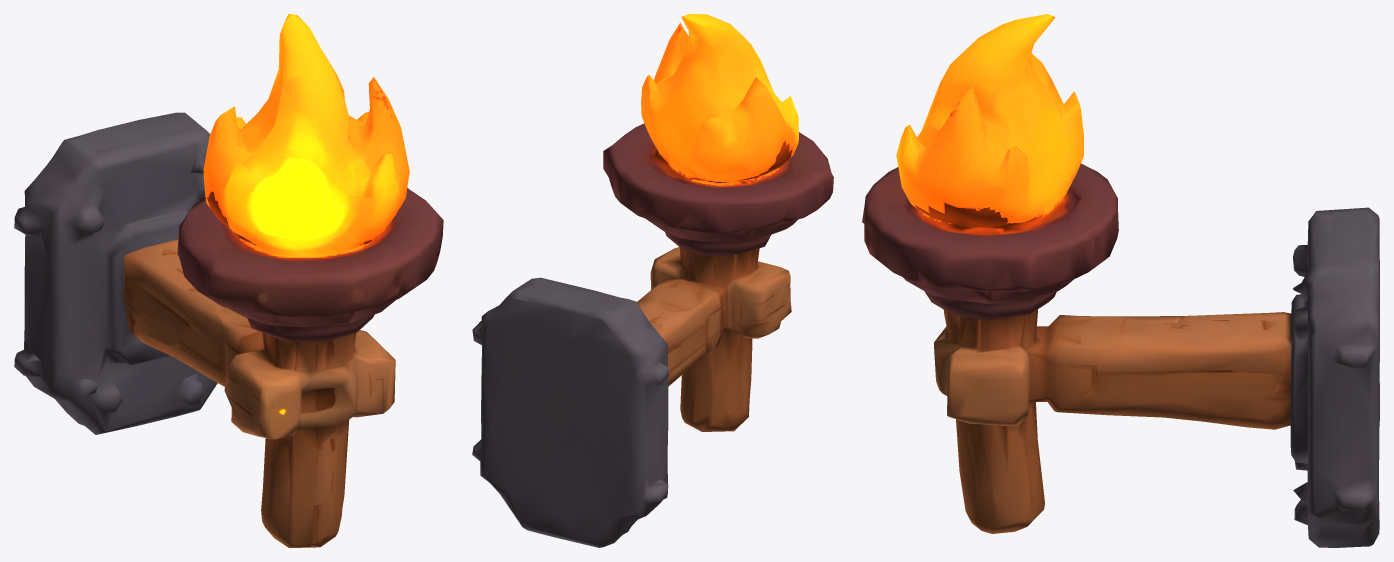
Rendered from camp_torch-B5AurtAE.glb.
3 views of the same model, side by side, from view 1: azimuth 30°, elevation 25°; view 2: azimuth 150°, elevation 25°; view 3: azimuth 270°, elevation 25° (orthographic). The views are drawn at different scales.
Parts seen in each view (by area): view 1: tripo_node_bf181872-946b-40d7-bef2-8dbe256fc283; view 2: tripo_node_bf181872-946b-40d7-bef2-8dbe256fc283; view 3: tripo_node_bf181872-946b-40d7-bef2-8dbe256fc283.
Boxes of the visible parts, box(x1,y1,x2,y2) form: tripo_node_bf181872-946b-40d7-bef2-8dbe256fc283: box(14, 14, 443, 547); tripo_node_bf181872-946b-40d7-bef2-8dbe256fc283: box(472, 14, 833, 547); tripo_node_bf181872-946b-40d7-bef2-8dbe256fc283: box(862, 14, 1379, 547).
Bounding box in the file's own units: 0.3657 × 0.75 × 0.6811.
Materials: 1 (1 with a texture image).
